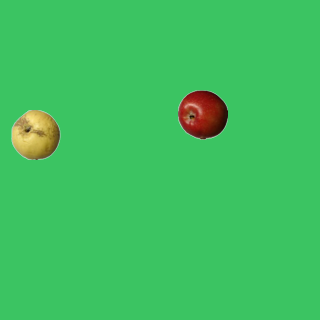Apple Braeburn: (177, 89, 227, 139)
Apple Golden 1: (10, 109, 60, 159)
